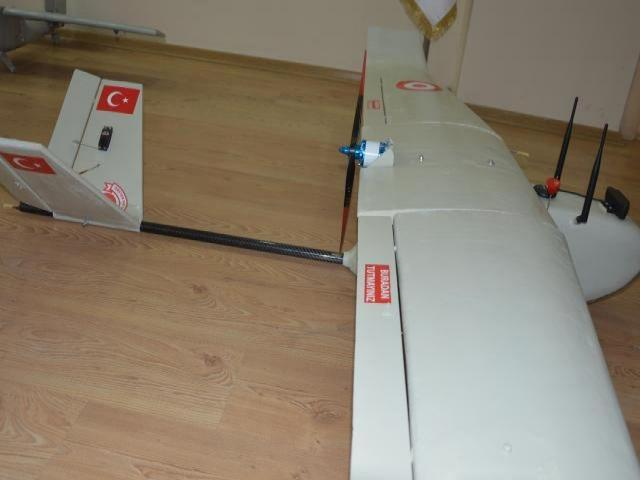iha: (1, 22, 640, 480)
